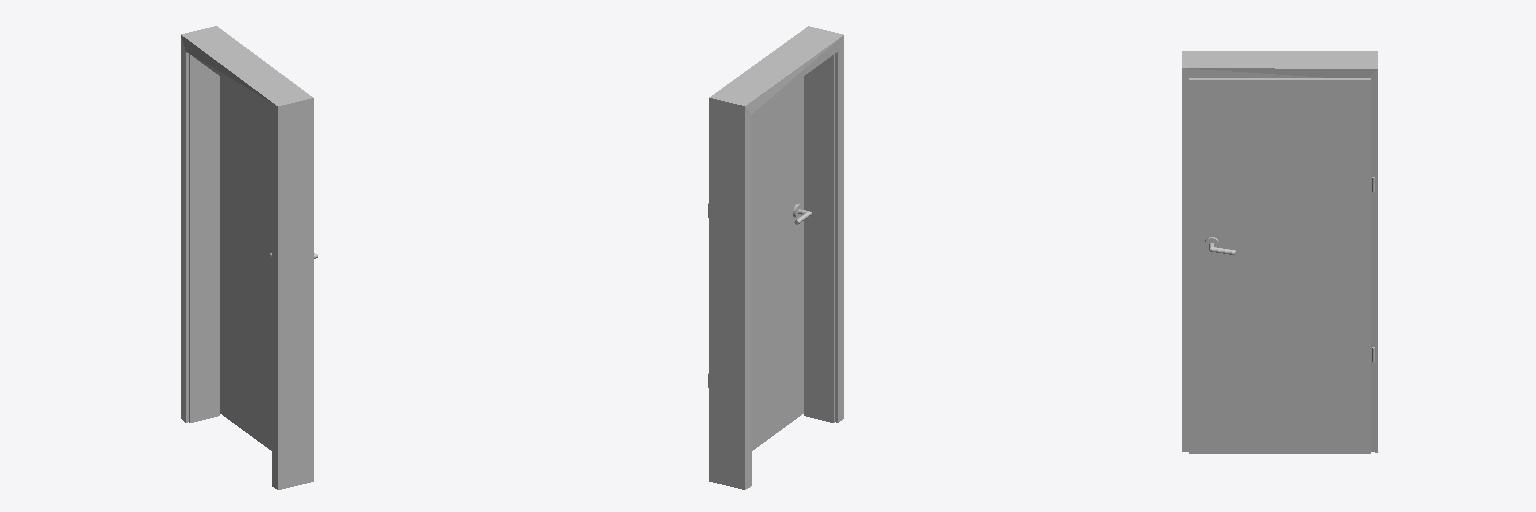
The model's file is door25.obj.
3 renders of one model, left to right at view 1: azimuth 30°, elevation 25°; view 2: azimuth 150°, elevation 25°; view 3: azimuth 270°, elevation 25°, orthographic.
Visible parts, largest first — view 1: Cylinder.005, Cylinder.001; view 2: Cylinder.005, Cylinder.001; view 3: Cylinder.001, Cylinder.005.
Boxes of the visible parts, x1=… form: Cylinder.005: x1=181, y1=26, x2=313, y2=489; Cylinder.001: x1=220, y1=77, x2=271, y2=450; Cylinder.005: x1=708, y1=26, x2=843, y2=489; Cylinder.001: x1=708, y1=77, x2=803, y2=450; Cylinder.001: x1=1189, y1=78, x2=1374, y2=453; Cylinder.005: x1=1182, y1=51, x2=1377, y2=452.
Bounding box in the file's own units: 0.3039 × 2.05 × 0.95.